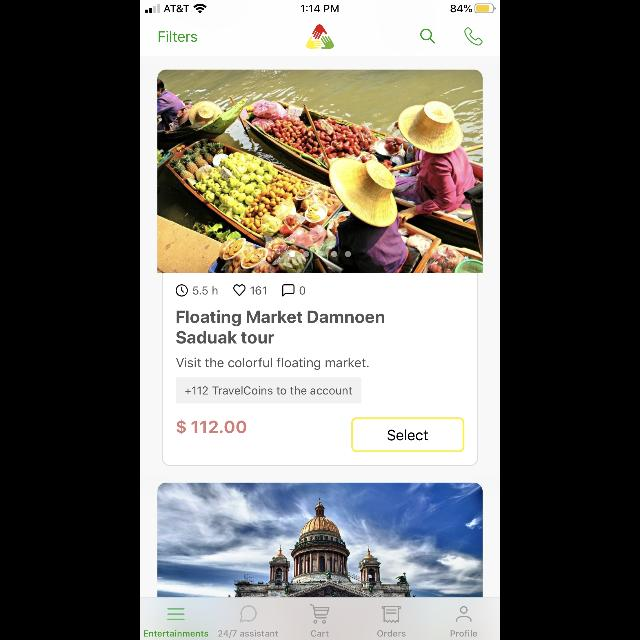icon: (310, 604, 330, 624), (382, 606, 401, 622), (420, 28, 436, 44), (456, 606, 472, 622), (240, 606, 256, 622), (168, 608, 185, 620), (283, 285, 295, 297), (234, 284, 246, 296), (176, 284, 188, 296)
image: (158, 70, 482, 272), (158, 482, 482, 598), (306, 25, 334, 49), (464, 28, 482, 46)
text: (177, 310, 385, 326), (176, 358, 368, 370), (176, 331, 274, 343), (177, 420, 247, 434), (218, 630, 278, 638), (144, 630, 208, 636), (159, 32, 197, 42), (194, 287, 218, 295), (377, 630, 405, 636), (451, 630, 477, 636), (250, 287, 266, 295), (311, 630, 329, 636), (299, 287, 305, 295)
textbutton: (176, 377, 362, 403), (352, 418, 464, 452)
uppertaskbar: (140, 0, 500, 14)
